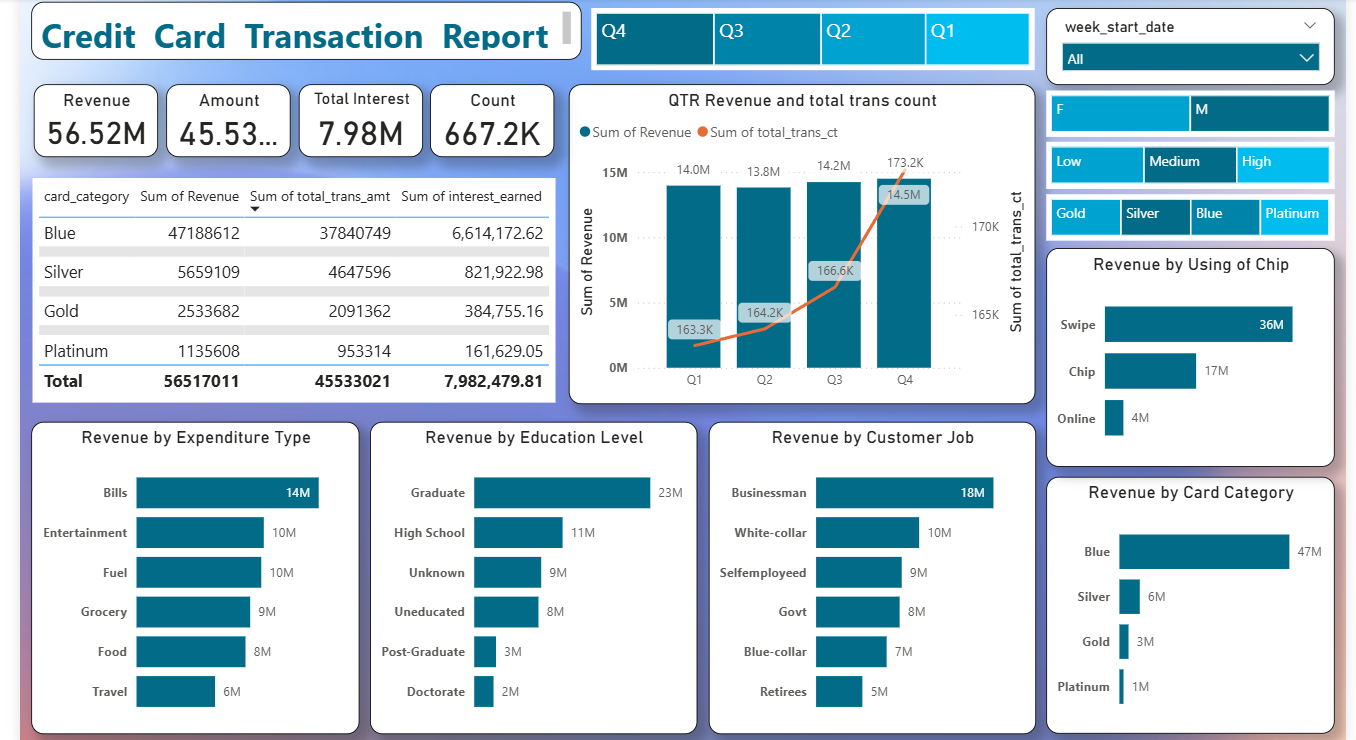

The page's visual inventory and layout, read from the dashboard file:
{"tool":"powerbi","page":{"name":"Credit Card Transaction","canvas":[1280,720],"ordinal":0},"visuals":[{"type":"lineStackedColumnComboChart","title":"QTR Revenue and total trans count","fields":{"Category":["public cc_detail.qtr"],"Y":["Sum(public cc_detail.Revenue)"],"Y2":["Sum(public cc_detail.total_trans_ct)"]},"box":[529.7,83.7,450.1,308.7],"z":0},{"type":"barChart","title":"Revenue by Expenditure Type","fields":{"Y":["Sum(public cc_detail.Revenue)"],"Category":["public cc_detail.exp_type"]},"box":[11,408.9,317,301.9],"z":1000},{"type":"barChart","title":"Revenue by Education Level","fields":{"Y":["Sum(public cc_detail.Revenue)"],"Category":["public cust_detail.education_level"]},"box":[337.6,408.9,315.6,301.9],"z":2000},{"type":"barChart","title":"Revenue by Customer Job","fields":{"Y":["Sum(public cc_detail.Revenue)"],"Category":["public cust_detail.customer_job"]},"box":[664.2,408.9,315.6,301.9],"z":3000},{"type":"barChart","title":"Revenue by Card Category","fields":{"Y":["Sum(public cc_detail.Revenue)"],"Category":["public cc_detail.card_category"]},"box":[990.7,462.4,278.6,248.4],"z":4000},{"type":"barChart","title":"Revenue by Using of Chip","fields":{"Y":["Sum(public cc_detail.Revenue)"],"Category":["public cc_detail.use_chip"]},"box":[990.7,241.5,278.6,211.3],"z":5000},{"type":"tableEx","fields":{"Values":["public cc_detail.card_category","Sum(public cc_detail.Revenue)","Sum(public cc_detail.total_trans_amt)","Sum(public cc_detail.interest_earned)"]},"box":[12.3,174.3,505,216.8],"z":6000},{"type":"card","title":"Revenue","fields":{"Values":["Sum(public cc_detail.Revenue)"]},"box":[13,83.8,120.4,70],"z":7000},{"type":"card","title":"Amount","fields":{"Values":["Sum(public cc_detail.total_trans_amt)"]},"box":[140.7,83.8,120.4,70.5],"z":8000},{"type":"card","title":"Total Interest","fields":{"Values":["Sum(public cc_detail.interest_earned)"]},"box":[268.4,83.8,120.4,70.5],"z":9000},{"type":"card","title":"Count","fields":{"Values":["Sum(public cc_detail.total_trans_ct)"]},"box":[396.2,83.8,120.4,70.5],"z":10000},{"type":"slicer","fields":{"Values":["public cc_detail.week_start_date"]},"box":[990.7,9.6,278.6,74.1],"z":11000},{"type":"treemap","fields":{"Group":["public cc_detail.qtr"],"Values":["Avg(public cc_detail.client_num)"]},"box":[551.6,9.6,428.1,60.4],"z":12000},{"type":"treemap","fields":{"Group":["public cust_detail.gender"],"Values":["Avg(public cc_detail.client_num)"]},"box":[990.7,89.2,278.6,45],"z":13000},{"type":"treemap","fields":{"Group":["public cc_detail.card_category"],"Values":["Avg(public cc_detail.client_num)"]},"box":[990,189.4,278,45],"z":14000},{"type":"treemap","fields":{"Group":["public cust_detail.IncomeGroup"],"Values":["Avg(public cc_detail.client_num)"]},"box":[990.7,138.6,278.6,45.3],"z":15000},{"type":"textbox","box":[11,4.1,531,56.3],"z":16000}]}

Visuals, with their boxes in screenshot pixels (x1, y1, x2, y2):
"QTR Revenue and total trans count" lineStackedColumnComboChart: 561, 78, 1035, 403
"Revenue by Expenditure Type" barChart: 15, 420, 349, 738
"Revenue by Education Level" barChart: 359, 420, 691, 738
"Revenue by Customer Job" barChart: 703, 420, 1035, 738
"Revenue by Card Category" barChart: 1047, 476, 1340, 738
"Revenue by Using of Chip" barChart: 1047, 244, 1340, 466
tableEx - public cc_detail.card_category x Sum(public cc_detail.Revenue): 16, 173, 548, 401
"Revenue" card: 17, 78, 144, 151
"Amount" card: 152, 78, 278, 152
"Total Interest" card: 286, 78, 413, 152
"Count" card: 421, 78, 548, 152
slicer - public cc_detail.week_start_date: 1047, 0, 1340, 78
treemap - public cc_detail.qtr x Avg(public cc_detail.client_num): 584, 0, 1035, 63
treemap - public cust_detail.gender x Avg(public cc_detail.client_num): 1047, 83, 1340, 131
treemap - public cc_detail.card_category x Avg(public cc_detail.client_num): 1046, 189, 1339, 236
treemap - public cust_detail.IncomeGroup x Avg(public cc_detail.client_num): 1047, 135, 1340, 183
textbox: 15, 0, 574, 53
